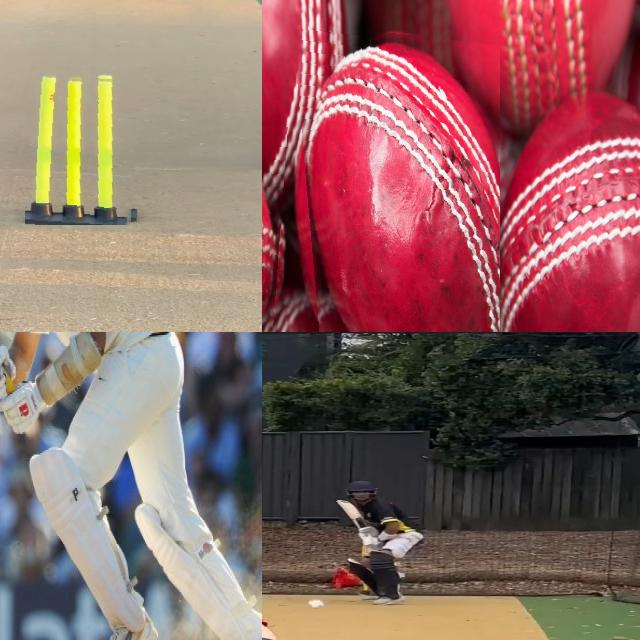Cricket ball: (292, 22, 499, 332), (500, 79, 640, 332), (306, 597, 327, 608)
Stumps: (25, 73, 141, 225)
